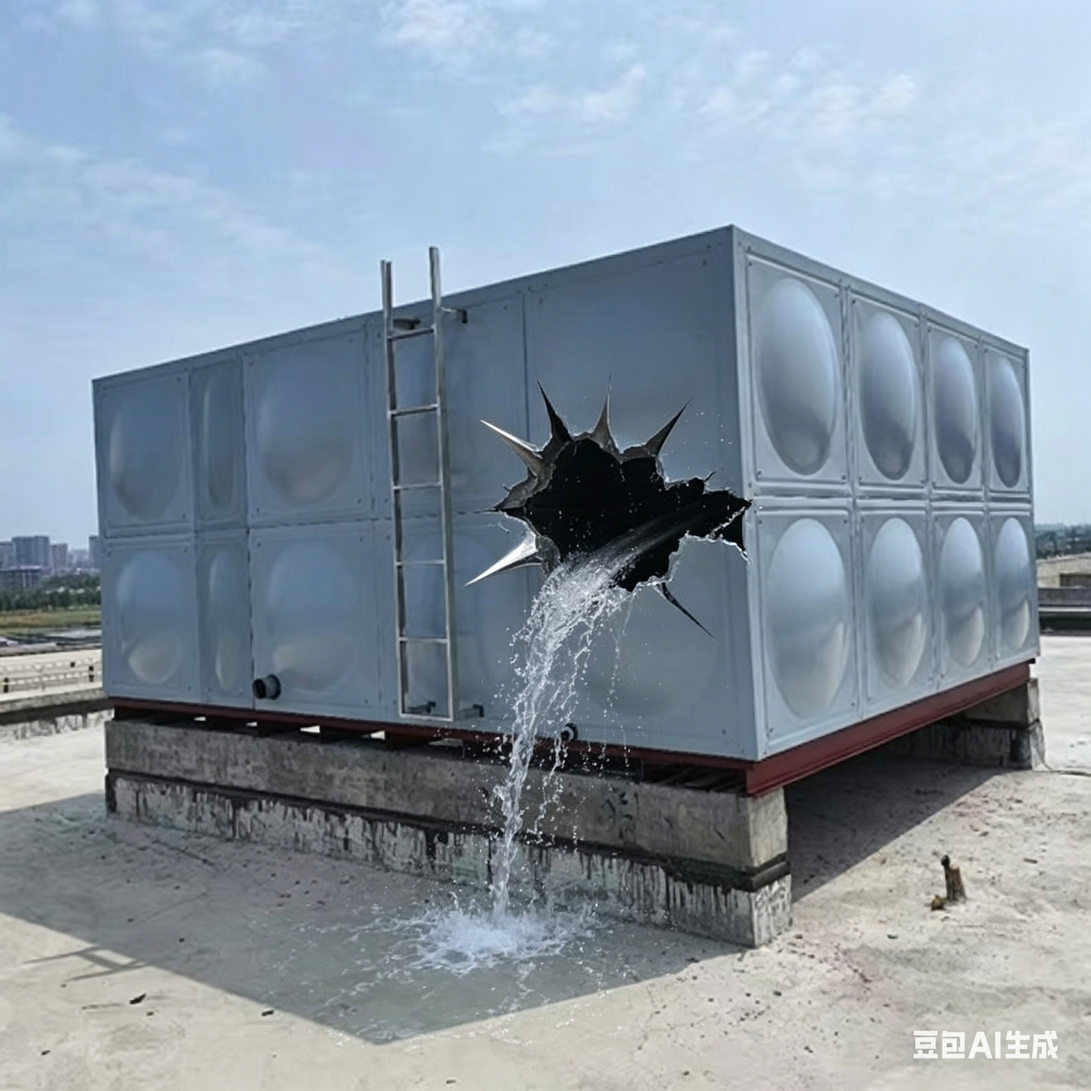Leakage: (501, 531, 608, 969), (395, 854, 495, 989)
